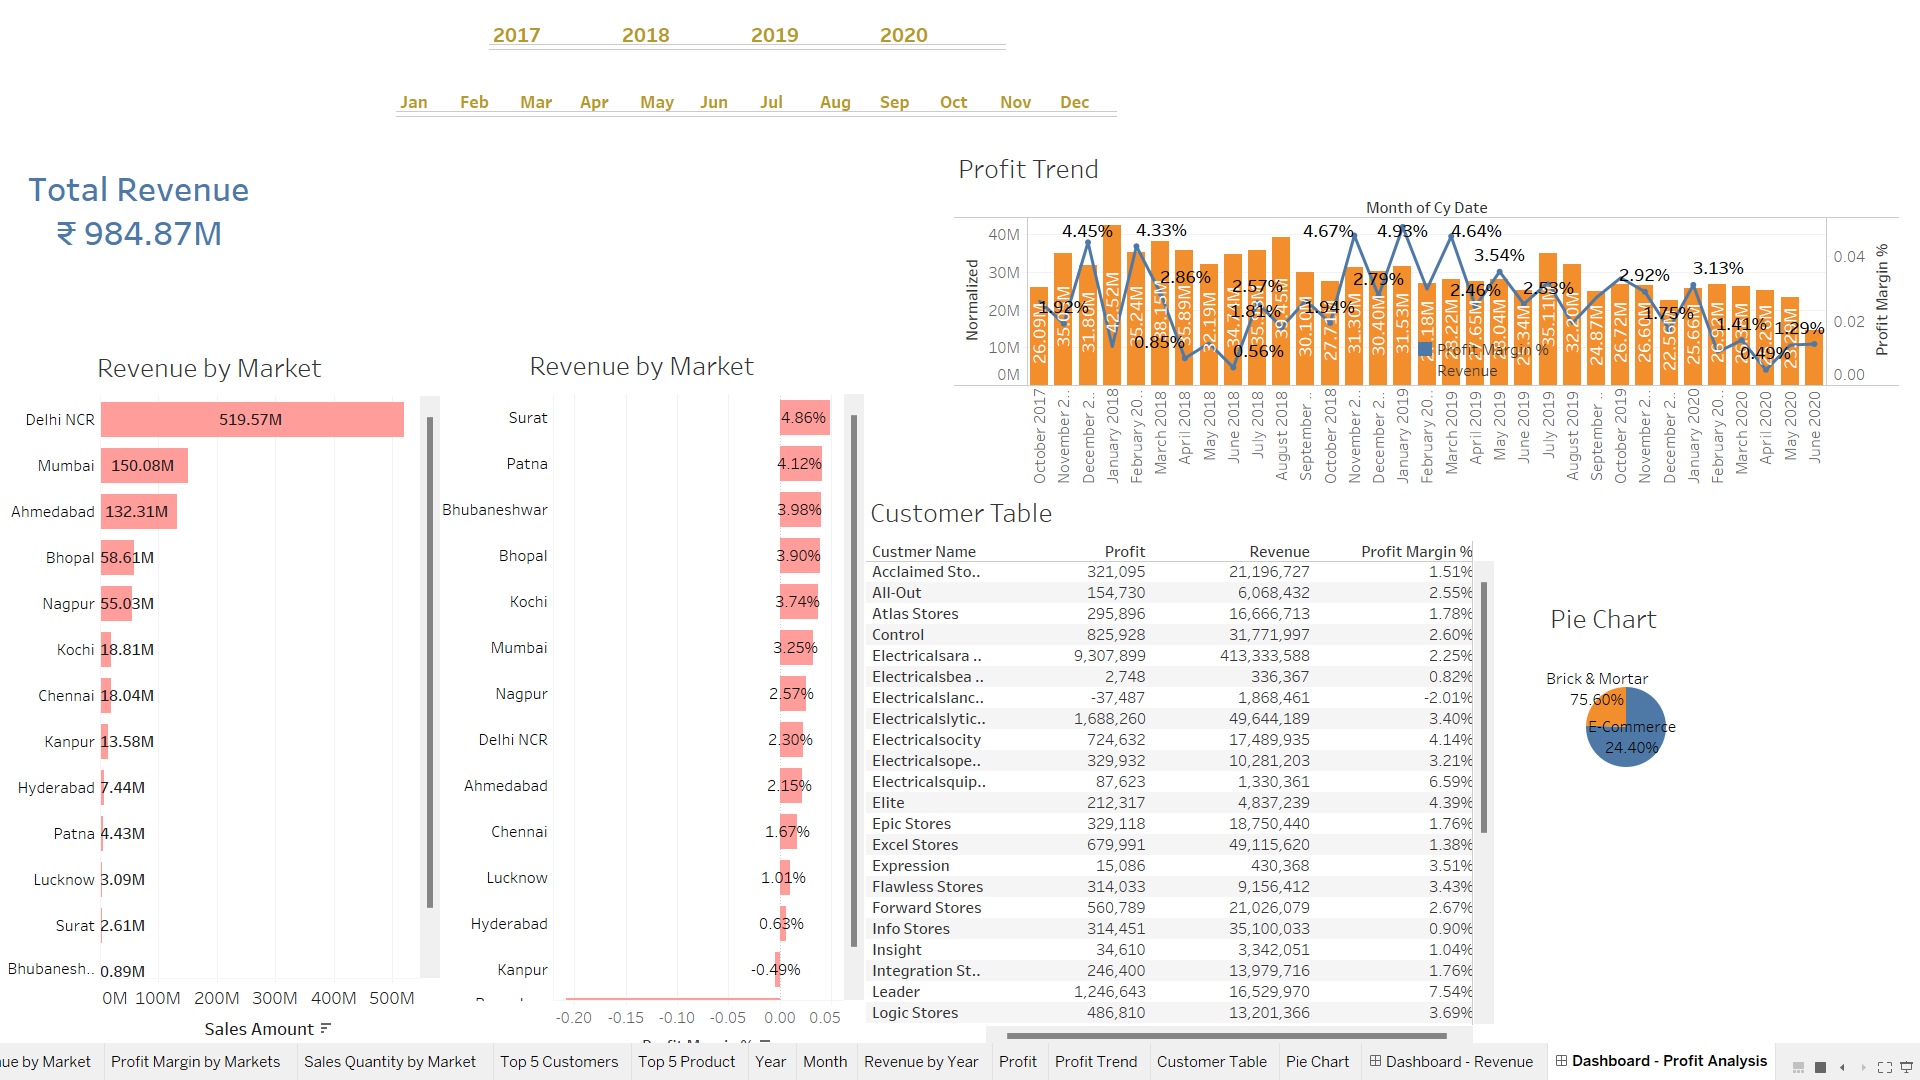

The dashboard page shown, as its layout file describes it:
{"tool":"tableau","page":{"name":"Dashboard - Profit Analysis","canvas":[1000,1000],"units":"permille","ordinal":0},"visuals":[{"type":"worksheet","title":"Year","mark":"Automatic","cols":["cy_date"],"box":[254.7,8.2,333.1,61.1]},{"type":"worksheet","title":"Month","mark":"Automatic","cols":["cy_date"],"box":[206.4,72.9,444.8,64.6]},{"type":"worksheet","title":"Profit Trend","mark":"Bar","rows":["Calculation_965459180865769472","Calculation_104145752182444032"],"cols":["cy_date"],"box":[496.7,141,492.5,325.5]},{"type":"worksheet","title":"Revenue","mark":"Automatic","box":[9.7,143.4,158.7,141]},{"type":"worksheet","title":"Profit Trend","mark":"Bar","rows":["Calculation_965459180865769472","Calculation_104145752182444032"],"cols":["cy_date"],"param":"[federated.0ct05yw1n6f2nh1ajc2ja1lhptgn].[:Measure Names]","box":[736.9,304.4,87.5,77.6]},{"type":"worksheet","title":"Revenue by Market","mark":"Automatic","rows":["markets_name"],"cols":["sales_amount"],"box":[0,331.4,229.3,672.1]},{"type":"worksheet","title":"Customer Table","mark":"Automatic","rows":["custmer_name"],"box":[450.8,471.2,327.1,532.3]},{"type":"worksheet","title":"Pie Chart","mark":"Pie","box":[805.1,572.3,139.4,332.6]}]}

Visuals, with their boxes on the dashboard's canvas, which has no fixed pixel size, in thousandths of its width and height (x1, y1, x2, y2). These are canvas units, not pixel positions in the 1920x1080 screenshot, which may show the page scaled, cropped or inside an application window:
"Year" worksheet: 255,8,588,69
"Month" worksheet: 206,73,651,138
"Profit Trend" worksheet (Bar marks): 497,141,989,466
"Revenue" worksheet: 10,143,168,284
"Profit Trend" worksheet (Bar marks): 737,304,824,382
"Revenue by Market" worksheet: 0,331,229,1004
"Customer Table" worksheet: 451,471,778,1004
"Pie Chart" worksheet (Pie marks): 805,572,944,905
